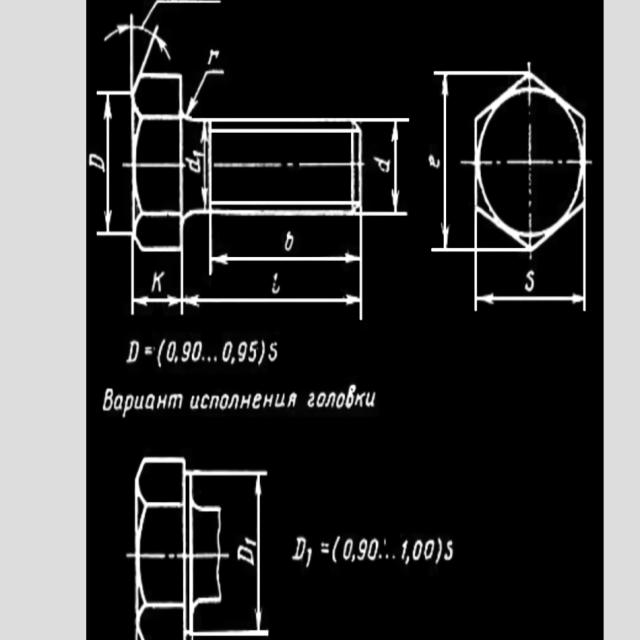marking_line: (439, 76, 455, 247), (186, 294, 360, 309), (480, 285, 584, 309), (253, 479, 266, 629), (104, 97, 117, 232), (215, 255, 359, 267), (387, 124, 402, 211), (134, 294, 181, 311)
numeric: (395, 535, 436, 567), (342, 536, 381, 569)
special_symbol: (97, 14, 179, 79), (184, 65, 230, 116)
